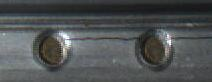joints: (135, 27, 174, 69), (32, 28, 70, 69)
